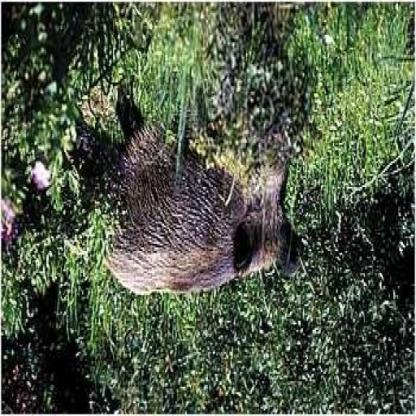boar: (81, 74, 297, 309)
